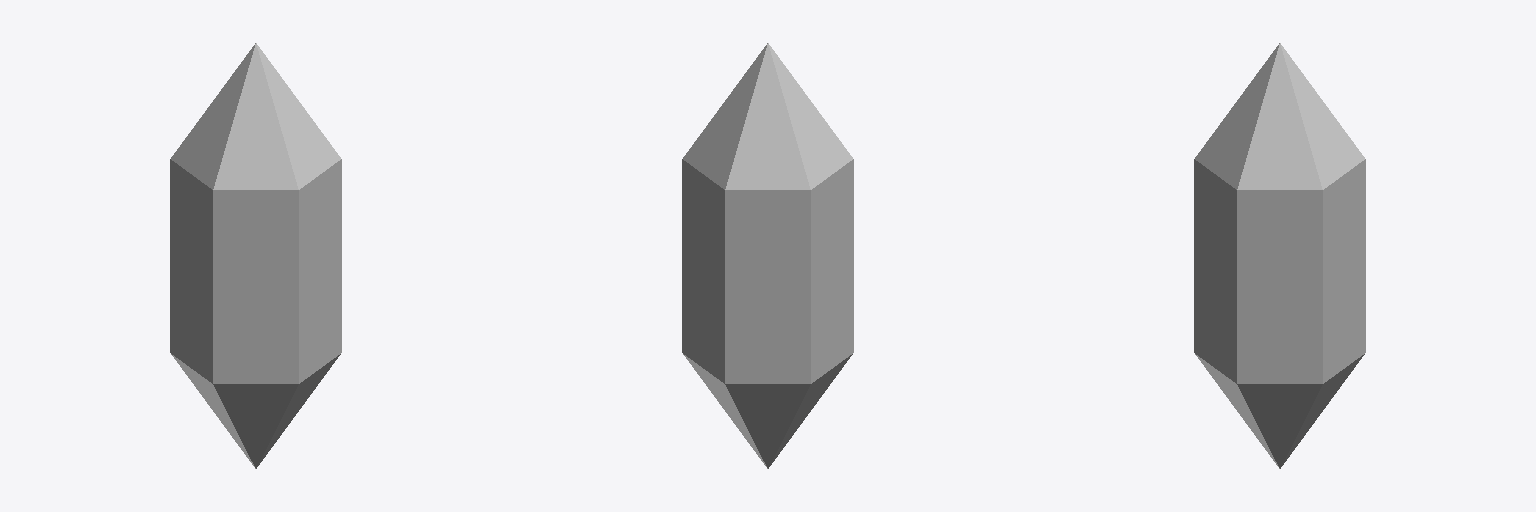
Rendered from Sniper.obj.
The picture shows the model from 3 angles: view 1: azimuth 30°, elevation 25°; view 2: azimuth 150°, elevation 25°; view 3: azimuth 270°, elevation 25°; orthographic projection.
Visible parts, largest first — view 1: Cylinder; view 2: Cylinder; view 3: Cylinder.
Boxes of the visible parts, x1=… form: Cylinder: x1=170, y1=43, x2=341, y2=468; Cylinder: x1=682, y1=43, x2=853, y2=468; Cylinder: x1=1194, y1=43, x2=1365, y2=468.
Size of the model in its own units: 1.73 by 5.5 by 2.